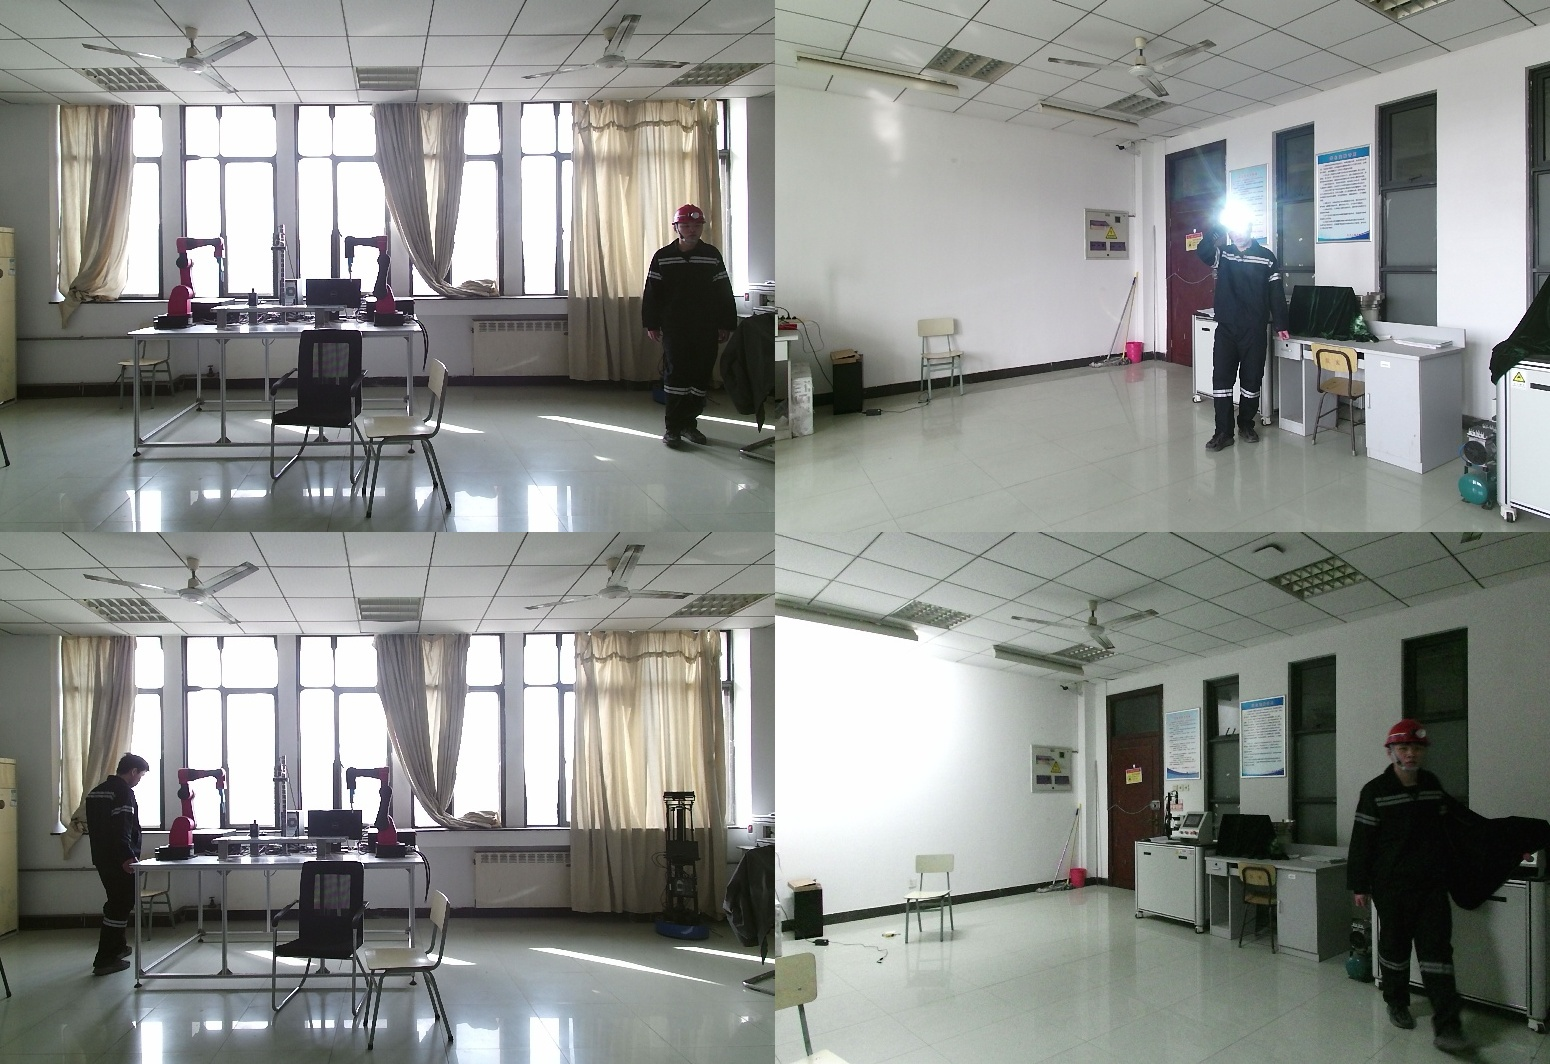person: (1354, 719, 1485, 1040), (1197, 205, 1297, 451), (643, 207, 738, 448), (83, 755, 150, 977)
